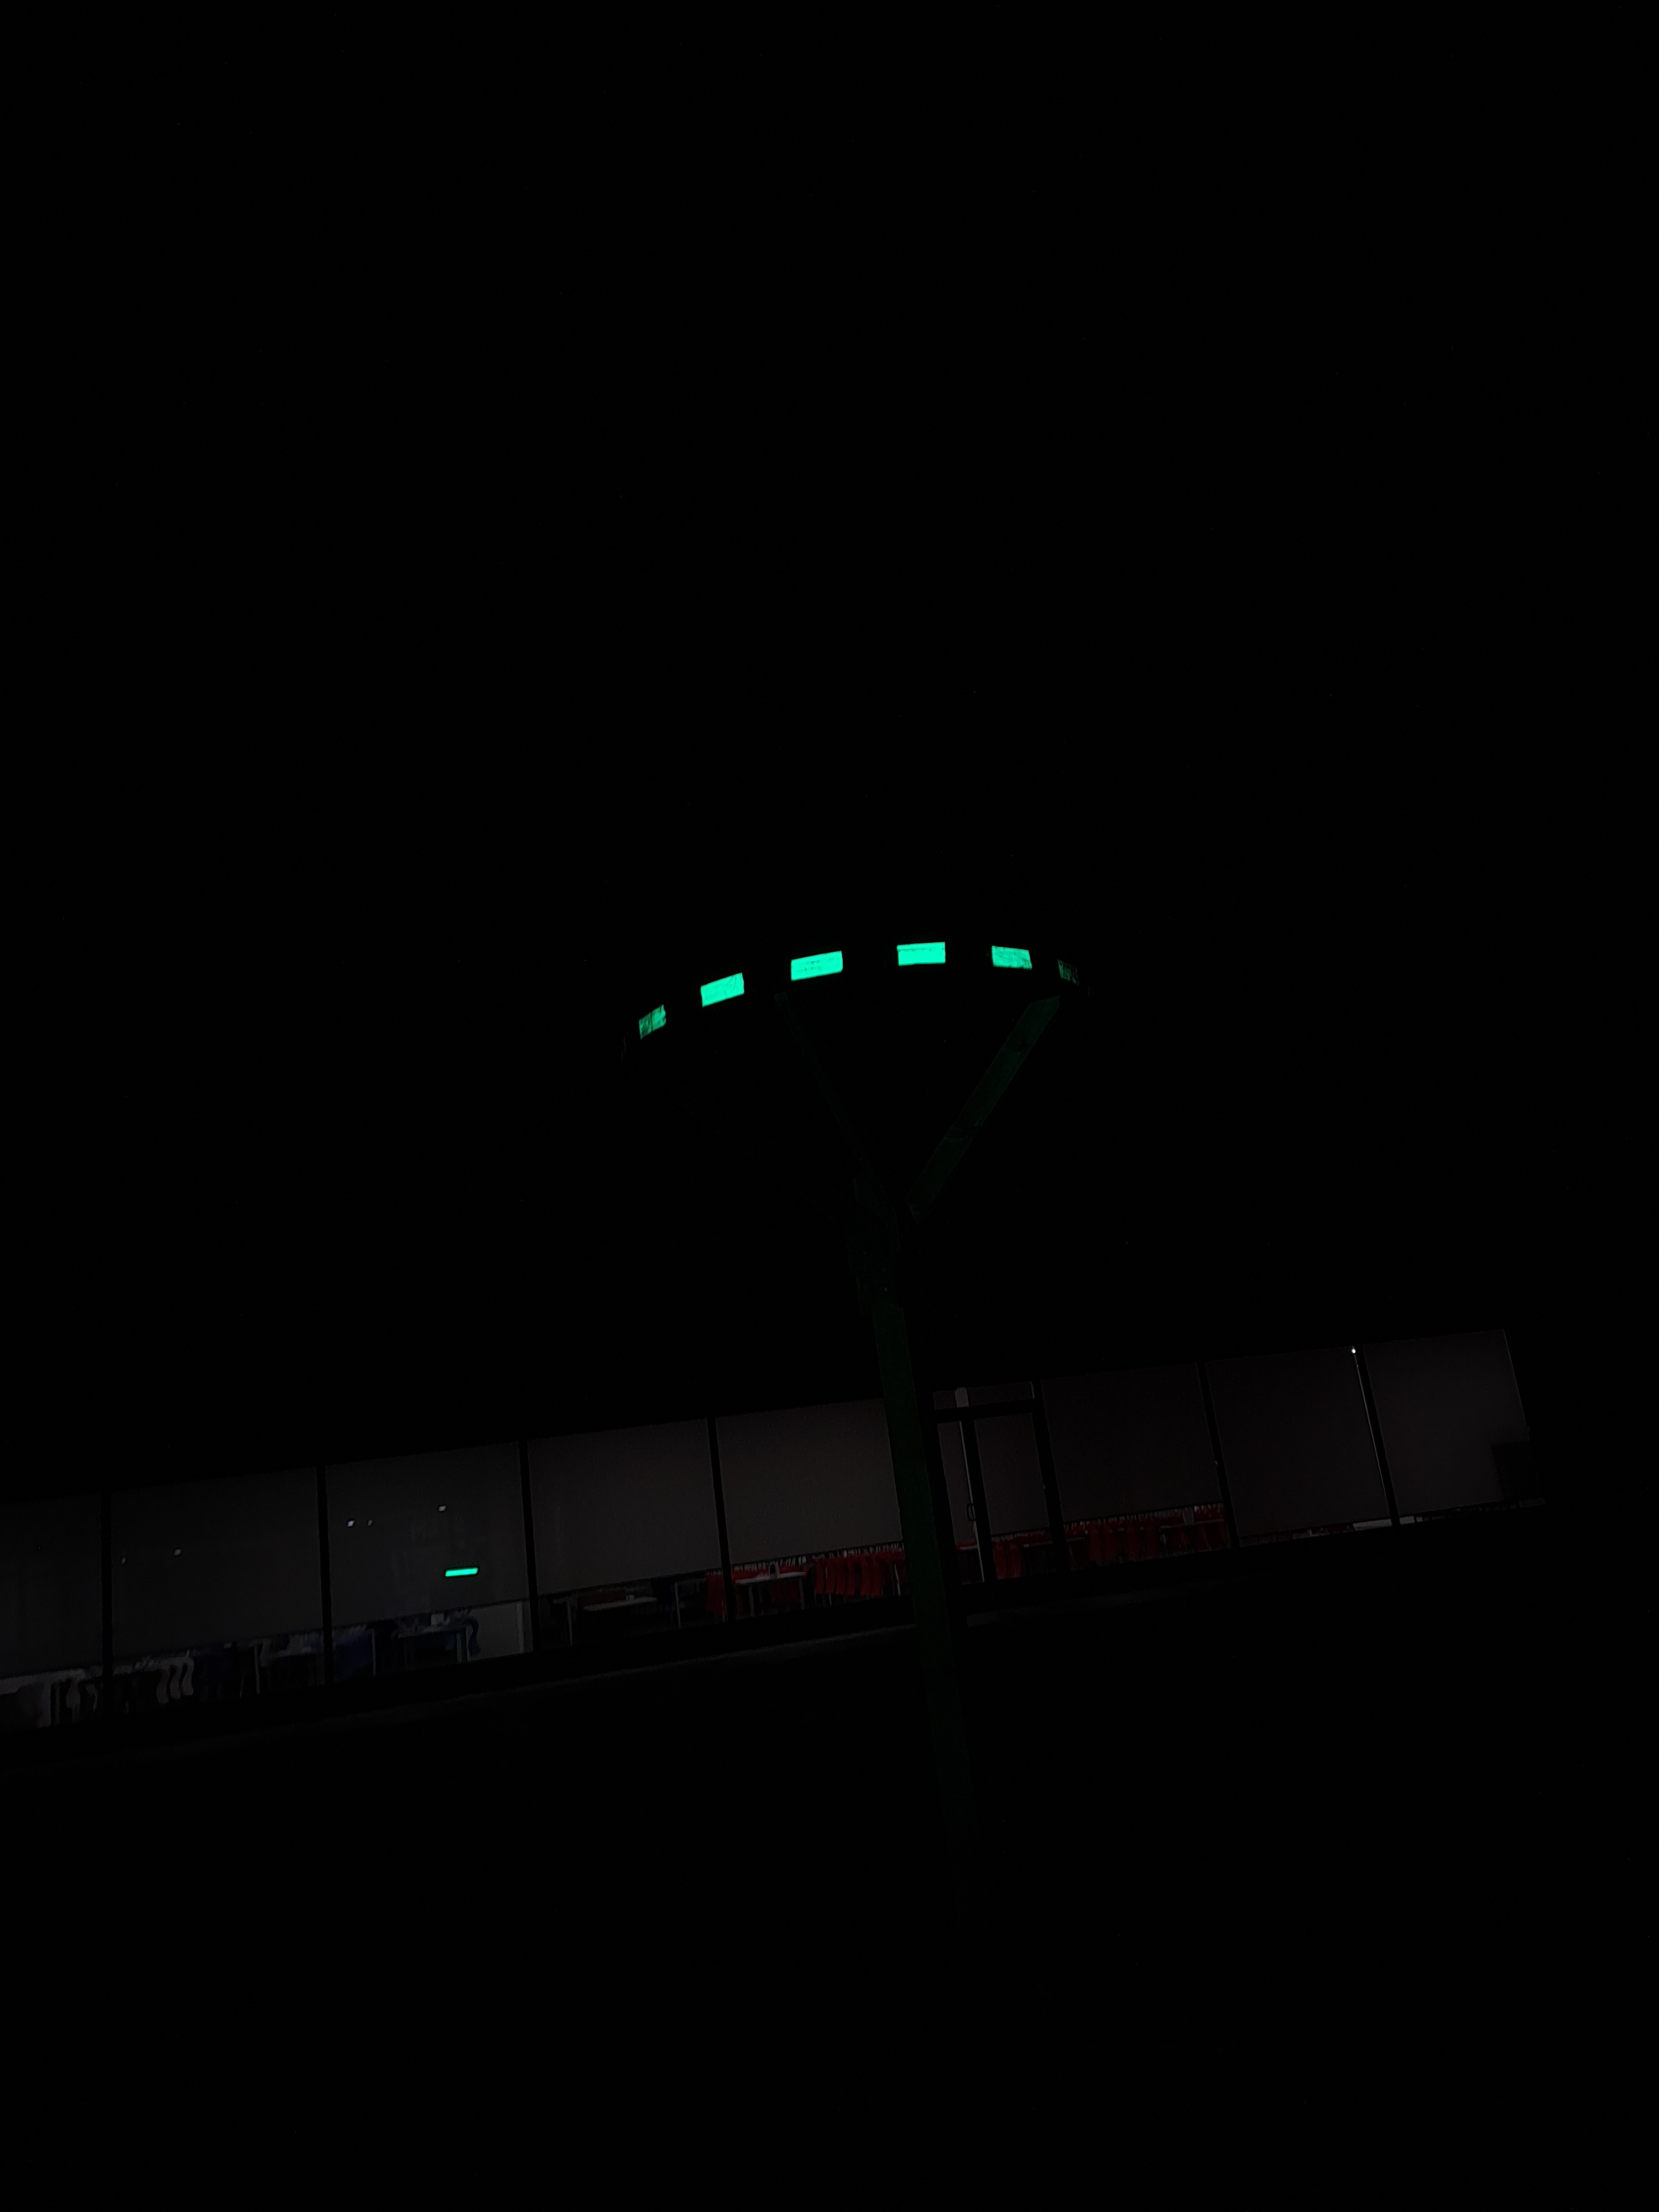hoop: (634, 934, 1037, 1050)
